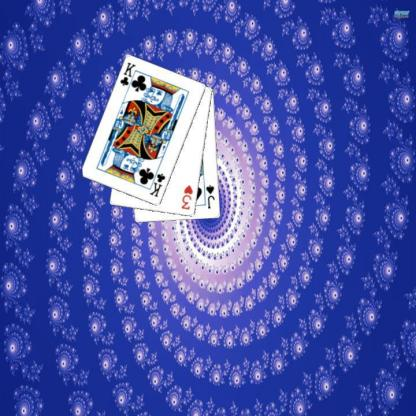3H: (179, 182, 194, 211)
JS: (204, 182, 216, 210)
KC: (117, 60, 138, 92), (146, 166, 166, 198)
